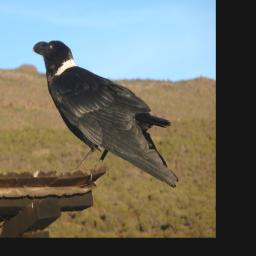Crow: (31, 35, 179, 188)
